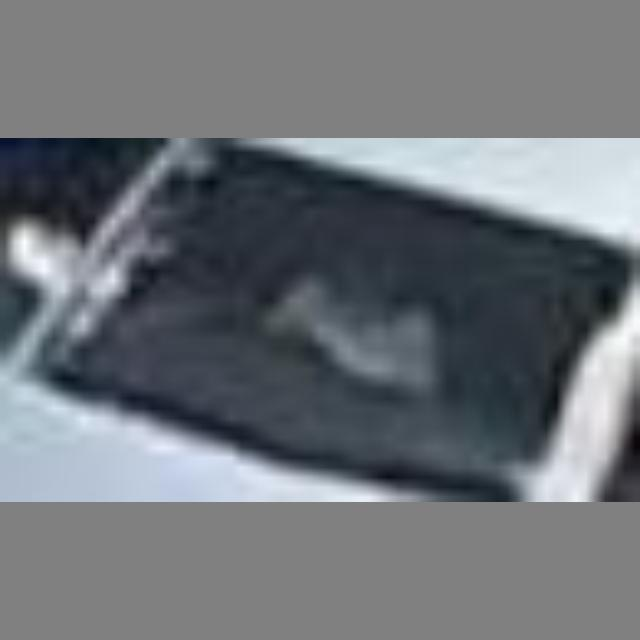tidak-pakai: (246, 246, 443, 394)
